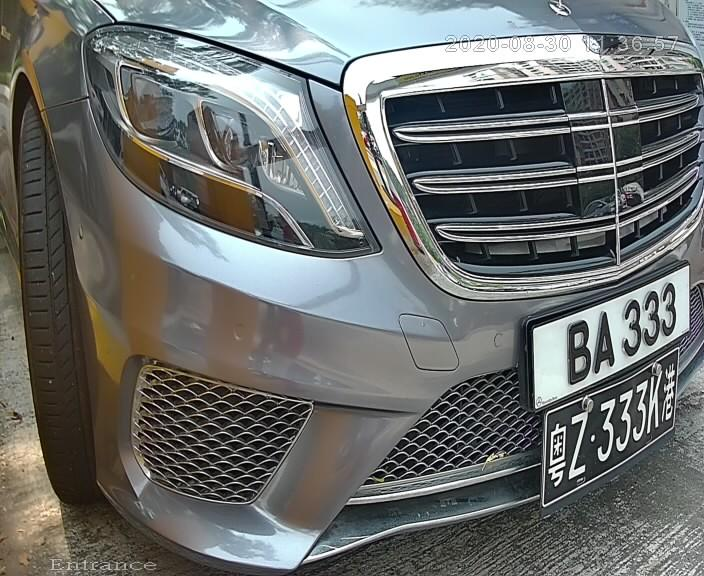License Plate: (491, 250, 695, 427)
